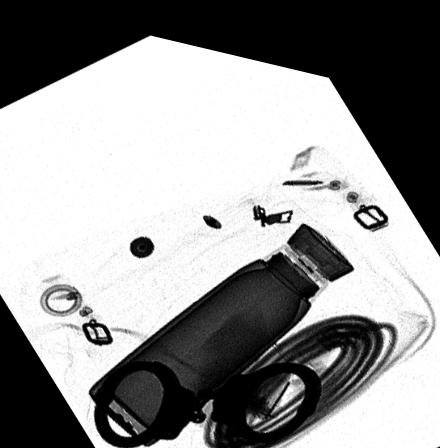HandCuffs: (91, 348, 319, 441)
